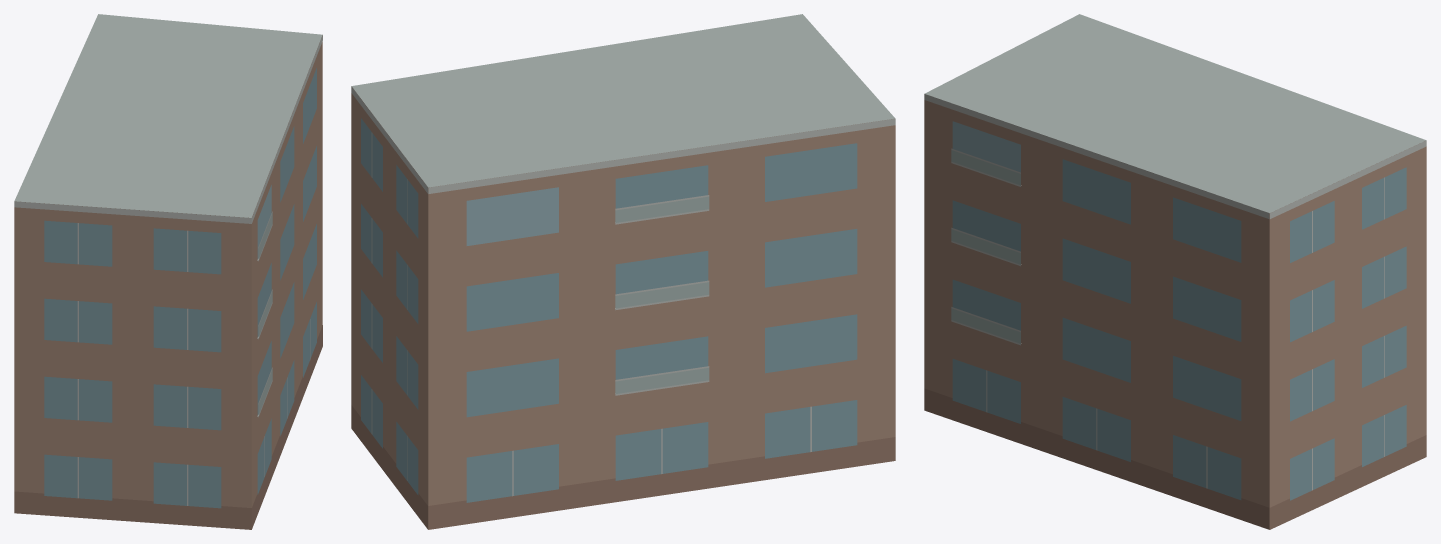
File: survey-upis-33016538.glb
3 views of the same model, side by side, from view 1: azimuth 30°, elevation 25°; view 2: azimuth 150°, elevation 25°; view 3: azimuth 270°, elevation 25° (orthographic). The views are drawn at different scales.
Parts seen in each view (by area): view 1: survey-upis-33016538.tmp; view 2: survey-upis-33016538.tmp; view 3: survey-upis-33016538.tmp.
Part boxes in pixels (left/top/right/bottom): survey-upis-33016538.tmp: left=14, top=14, right=322, bottom=529; survey-upis-33016538.tmp: left=351, top=14, right=895, bottom=529; survey-upis-33016538.tmp: left=924, top=14, right=1426, bottom=529.
Bounding box in the file's own units: 17.01 × 12.6 × 18.12.
